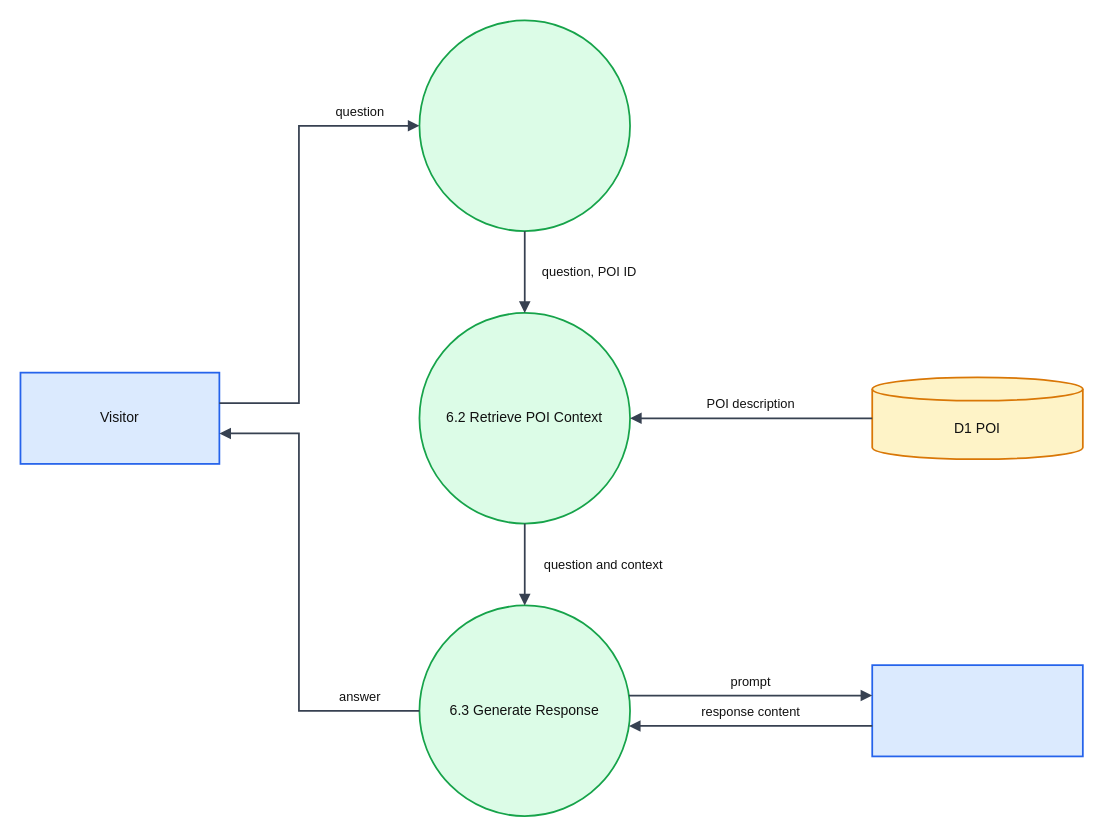
Some shapes in this 1104 by 838 pixel diagram are drawn without their labels. Here are the shapes that lost their labels. From the top down, the centre of each, then its label:
point 524,125: 6.1 Receive Question
point 977,710: Google Gemini
